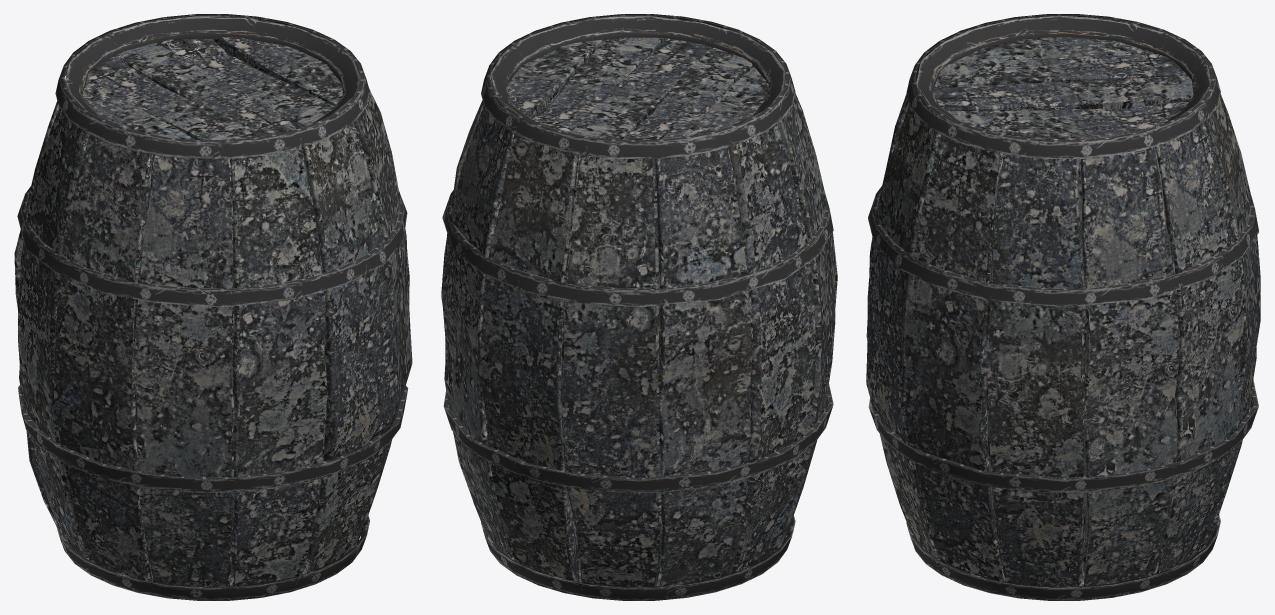
The model's file is SM_barrel_01.fbx.
3 renders of one model, left to right at view 1: azimuth 30°, elevation 25°; view 2: azimuth 150°, elevation 25°; view 3: azimuth 270°, elevation 25°, orthographic.
Parts seen in each view (by area): view 1: SM_barrel_01_LOD0; view 2: SM_barrel_01_LOD0; view 3: SM_barrel_01_LOD0.
Boxes of the visible parts, <box> form: SM_barrel_01_LOD0: <box>14,14,412,600</box>; SM_barrel_01_LOD0: <box>441,14,837,600</box>; SM_barrel_01_LOD0: <box>866,14,1260,600</box>.
Bounding box in the file's own units: 69.03 × 69.12 × 88.76.
